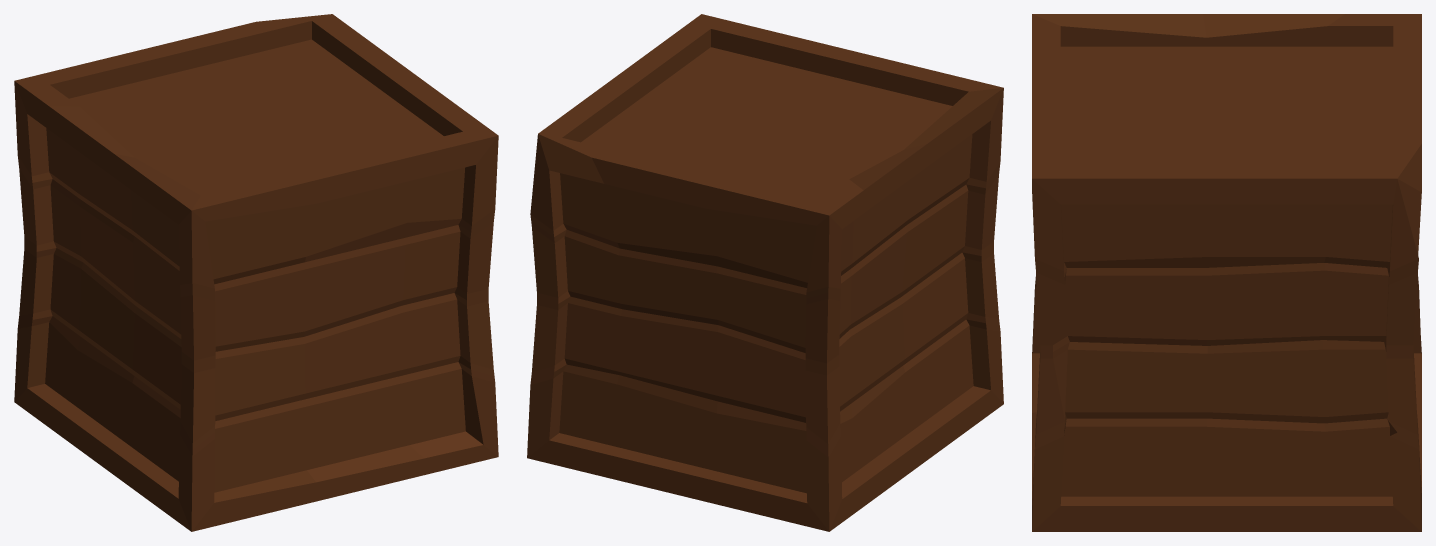
The model's file is Crate sealed.fbx.
The picture shows the model from 3 angles, left to right: view 1: azimuth 30°, elevation 25°; view 2: azimuth 150°, elevation 25°; view 3: azimuth 270°, elevation 25°; orthographic projection. The views are drawn at different scales.
Parts seen in each view (by area): view 1: Crate Sealed; view 2: Crate Sealed; view 3: Crate Sealed.
Boxes of the visible parts, bbox=[...] form: Crate Sealed: bbox=[14, 14, 498, 531]; Crate Sealed: bbox=[527, 14, 1003, 531]; Crate Sealed: bbox=[1032, 14, 1421, 531].
Size of the model in its own units: 200 by 200 by 200.
